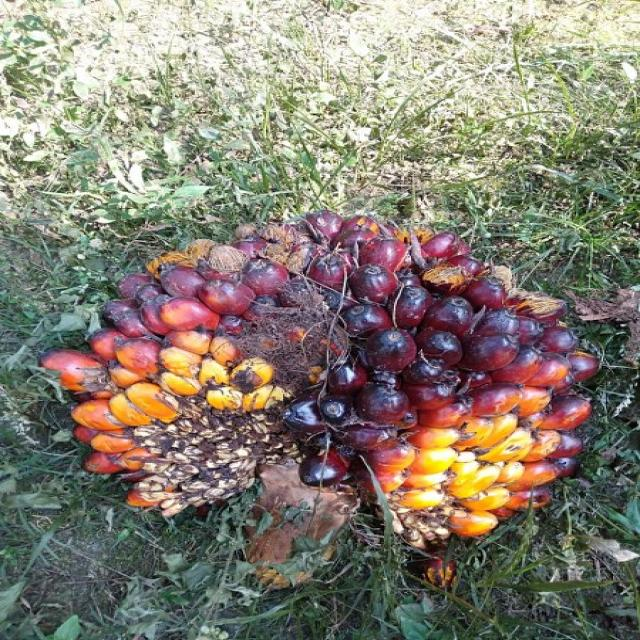fraksi 1: (22, 152, 608, 578)
